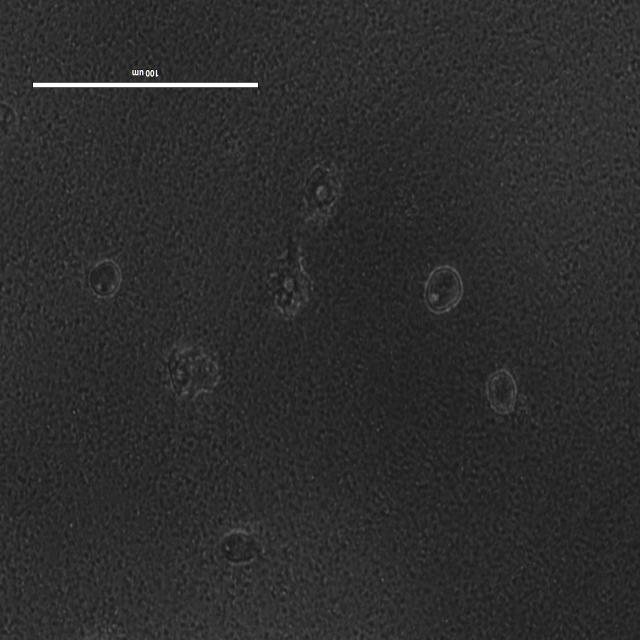Amoeba: (265, 232, 313, 316), (163, 343, 221, 399), (298, 167, 344, 226), (422, 269, 463, 313), (218, 528, 258, 568), (89, 256, 123, 300), (78, 609, 126, 639), (485, 368, 515, 414)
